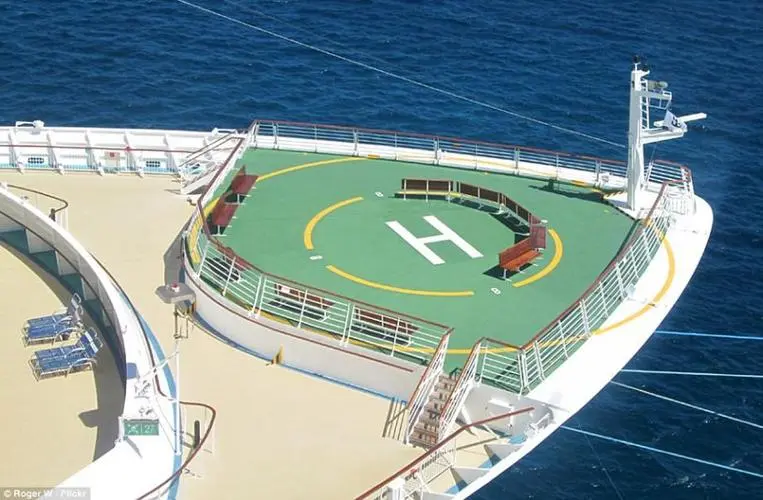Apron: (303, 188, 562, 298)
